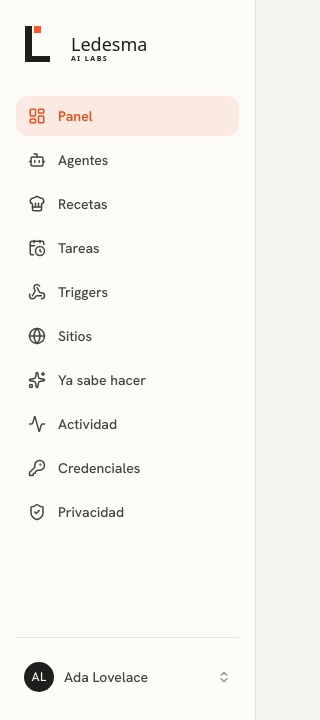
Scenario: UserMenu (menu de usuario del footer del sidebar) › al click abre el menu con cabecera de identidad y las tres opciones en orden
The image size is (320, 720).
Step 1. Click the button "AL Ada Lovelace" → (128, 677), box [16,654,239,700]
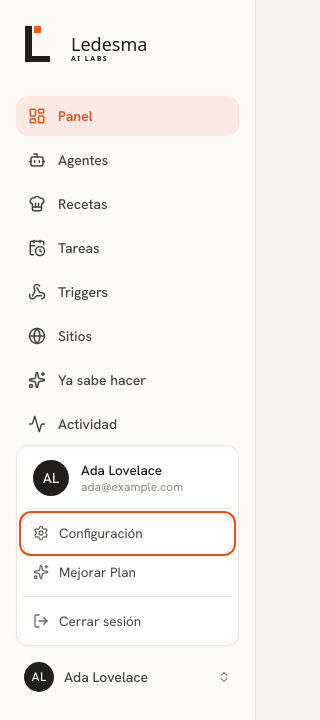
Check: the menu is shown, box [16,445,239,646]
Check: the menu items read "Configuración", "Mejorar Plan", "Cerrar sesión", in this order, box [23,515,232,552]; [23,554,232,590]; [23,603,232,639]
Check: the text "ada@example.com" is shown, box [81,479,183,495]
